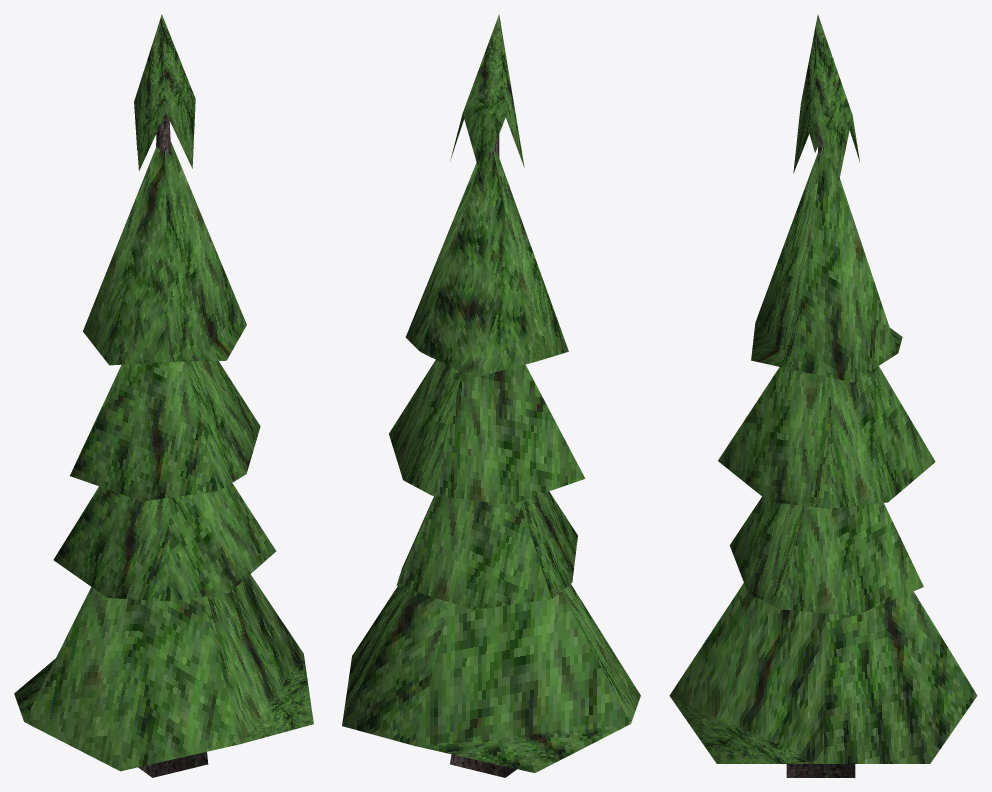
Rendered from pinetree_v1_3.glb.
The picture shows the model from 3 angles, left to right: view 1: azimuth 30°, elevation 25°; view 2: azimuth 150°, elevation 25°; view 3: azimuth 270°, elevation 25°; orthographic projection.
Parts seen in each view (by area): view 1: PineTree.001; view 2: PineTree.001; view 3: PineTree.001.
Boxes of the visible parts, box(x1,y1,x2,y2) form: PineTree.001: box(14, 14, 313, 777); PineTree.001: box(342, 14, 640, 777); PineTree.001: box(669, 14, 977, 777).
Bounding box in the file's own units: 3.58 × 9.12 × 3.4.
Materials: 1 (1 with a texture image).
